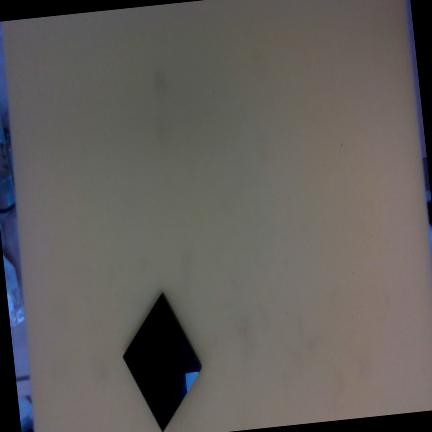tile: (105, 293, 219, 432)
